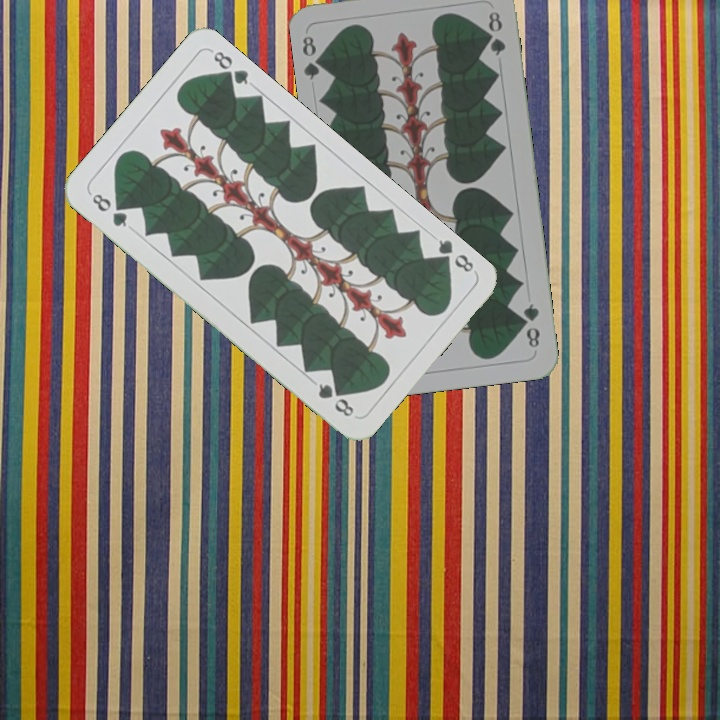G8: (431, 235, 477, 275), (86, 189, 130, 230), (298, 32, 328, 82), (518, 299, 543, 351)
